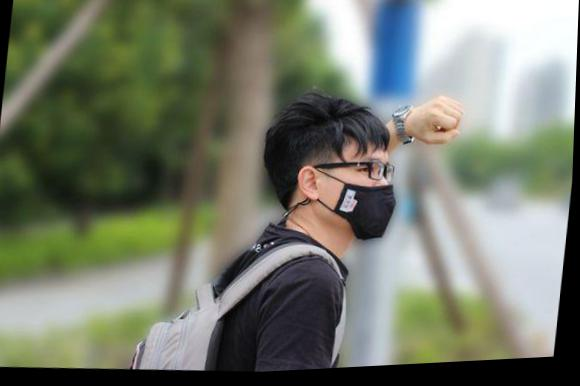WRONG: (318, 155, 404, 252)
